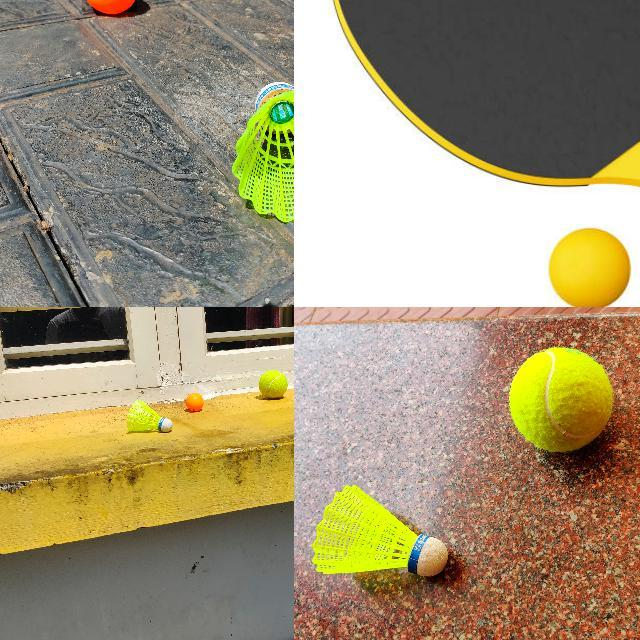ping-pong-ball: (548, 228, 631, 306), (82, 0, 139, 14), (185, 393, 203, 411)
